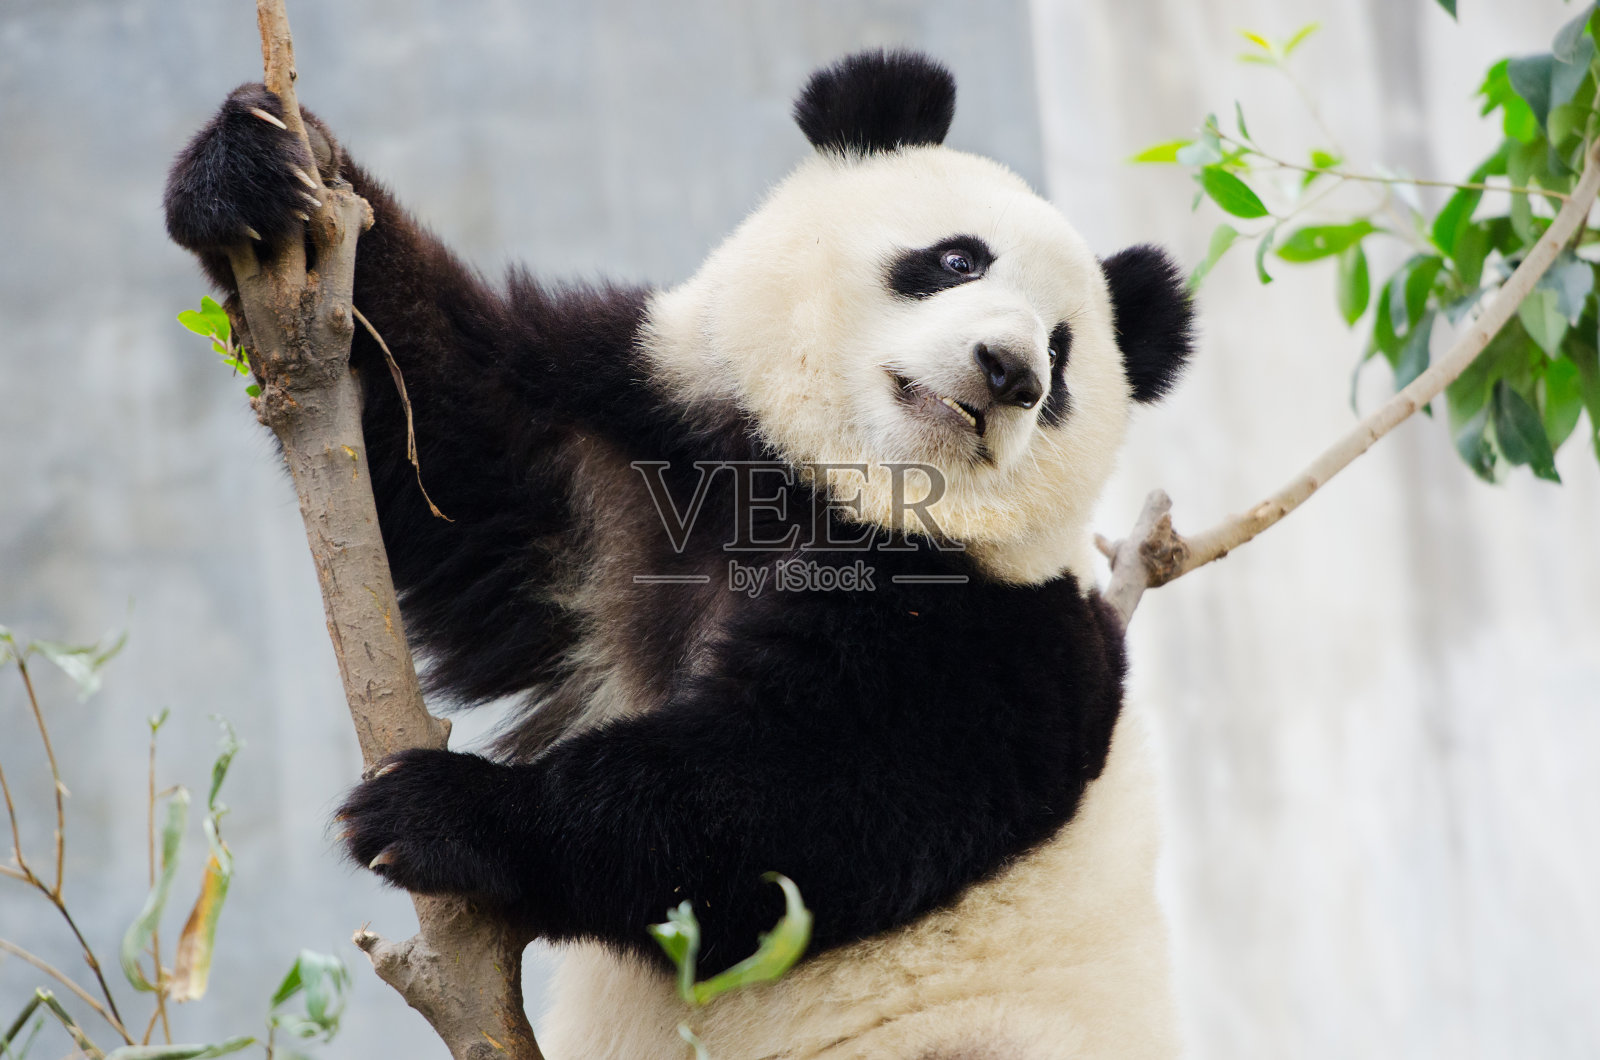panda: (127, 32, 1317, 1038)
